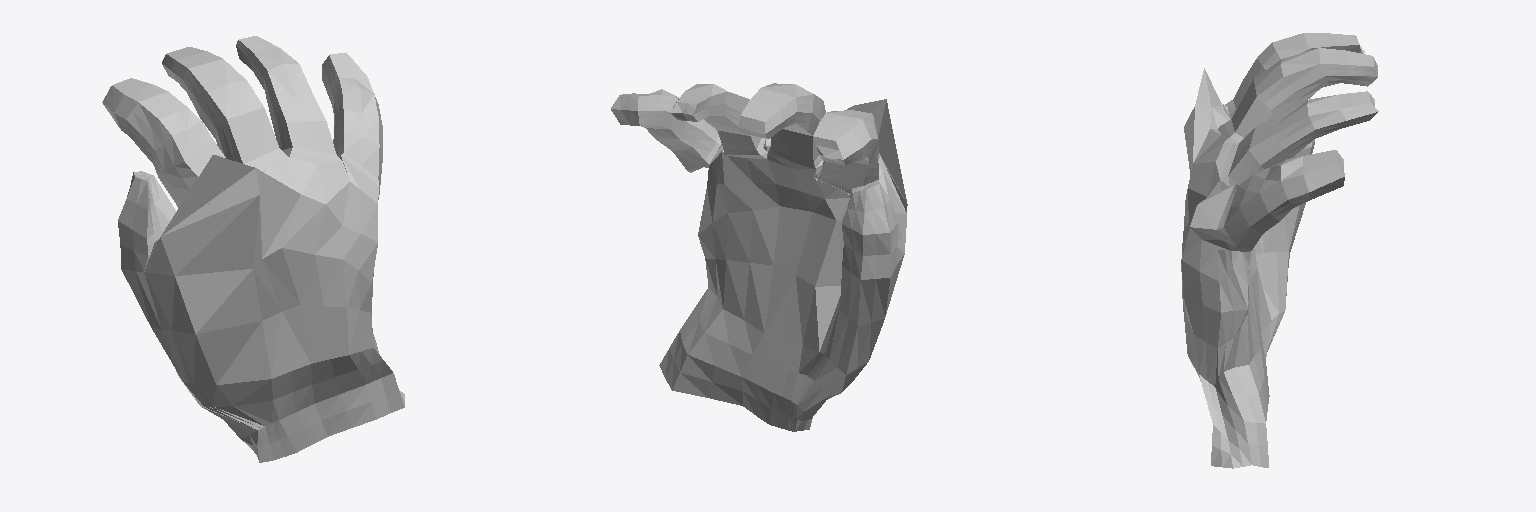
Rendered from hand_sub2_triang0034.obj.
3 views of the same model, side by side, from view 1: azimuth 30°, elevation 25°; view 2: azimuth 150°, elevation 25°; view 3: azimuth 270°, elevation 25° (orthographic).
Visible parts, largest first — view 1: Hand; view 2: Hand; view 3: Hand.
Boxes of the visible parts, x1,y1,x2,y2 form: Hand: [102, 36, 404, 462]; Hand: [611, 83, 907, 431]; Hand: [1181, 33, 1378, 468].
Bounding box in the file's own units: 2.91 × 3.98 × 1.91.